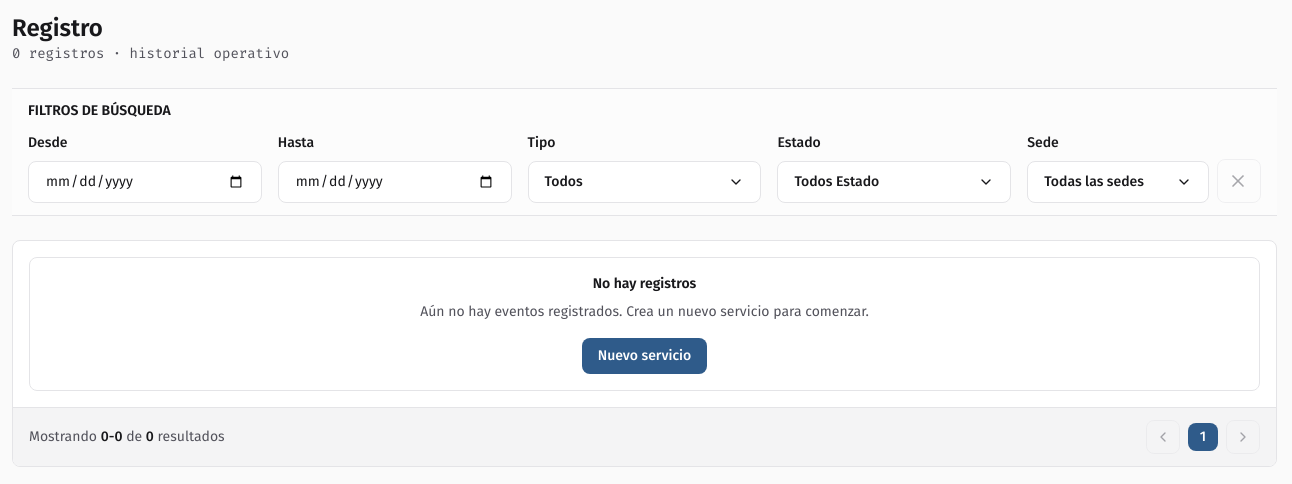
Test case: Registro empty Spanish contextual create vs filtered clear › rendered true-empty vs filtered-empty distinction
expect the heading "No hay registros" is shown: met, box [593,275,696,292]
expect the button "Nuevo servicio" is shown: met, box [582,338,707,374]
set Desde to trigger filtered mode
Type "2025-01-01" into the date field labelled "Desde". click: (145, 182)
box: [28,161,262,203]
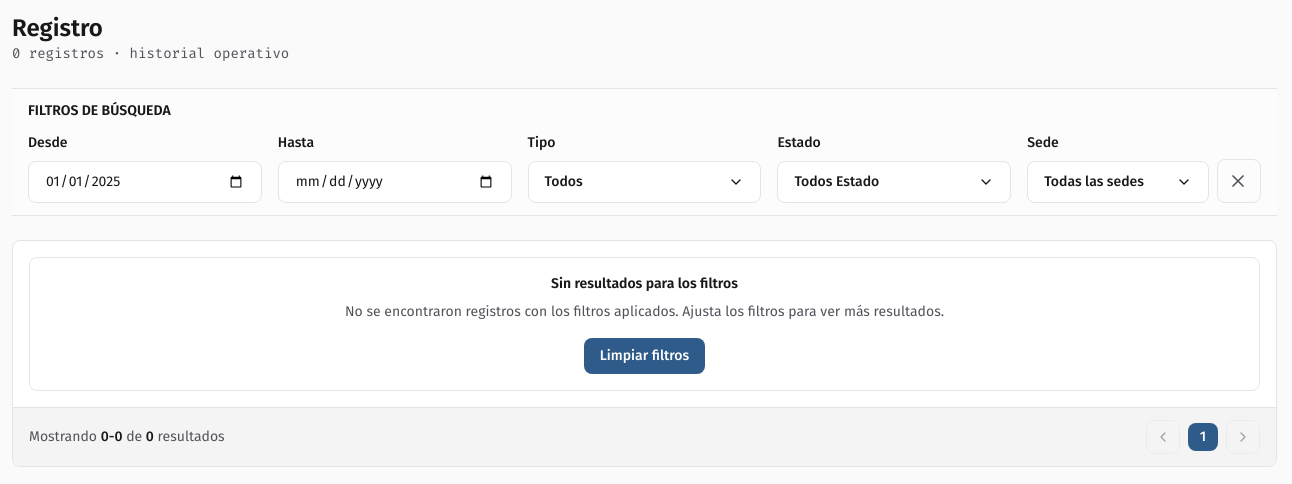
expect the heading "Sin resultados para los filtros" is shown: met, box [551,275,738,292]
